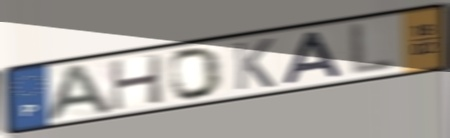A: (41, 61, 117, 126), (280, 28, 347, 87)
H: (106, 51, 166, 113)
K: (231, 36, 277, 93)
L: (347, 20, 398, 79)
O: (167, 45, 225, 102)
